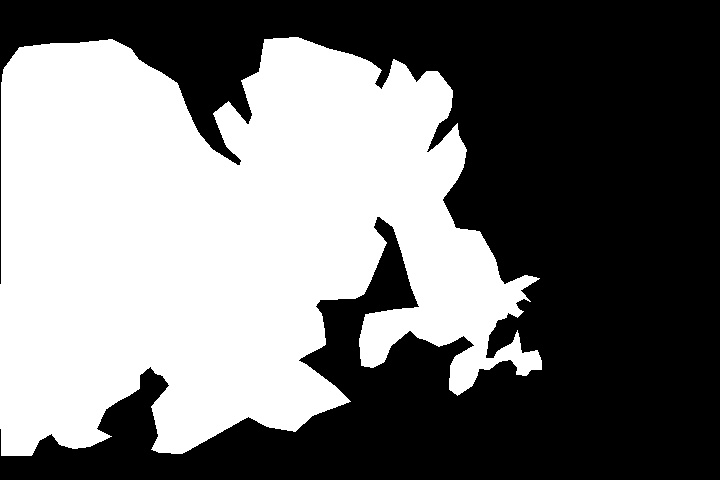Fire: (97, 212, 278, 425), (51, 93, 376, 203)
